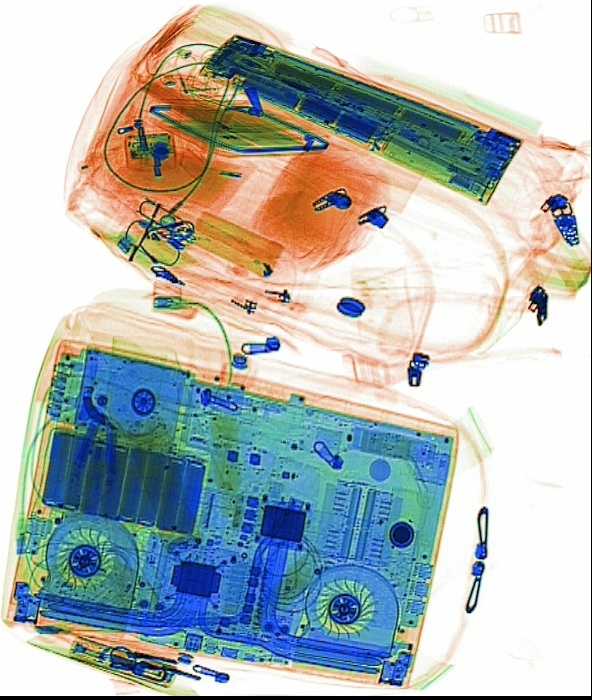powerbank: (31, 420, 213, 543)
